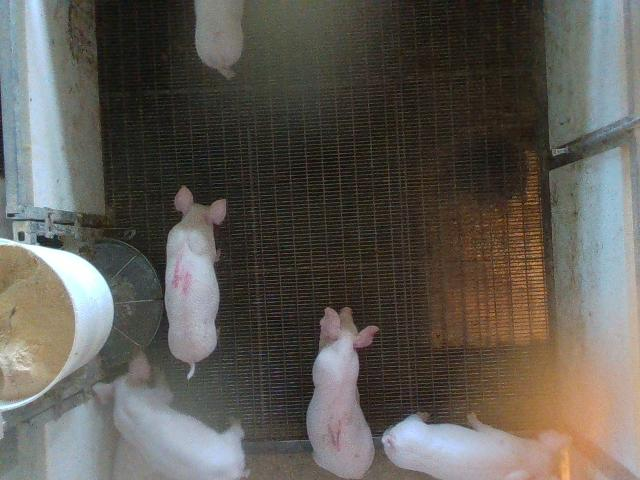pig-1: (306, 308, 379, 478)
pig-4: (165, 186, 226, 376)
